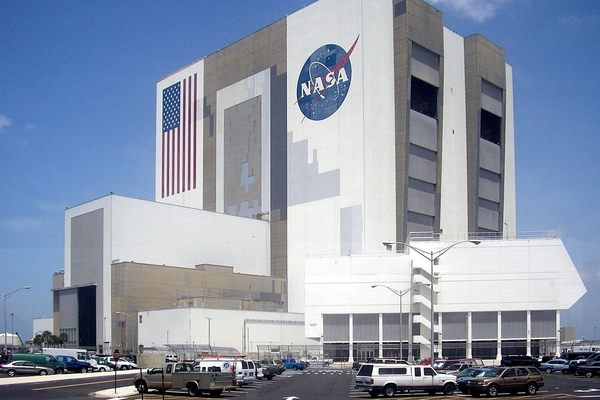NASA: (287, 33, 361, 121)
